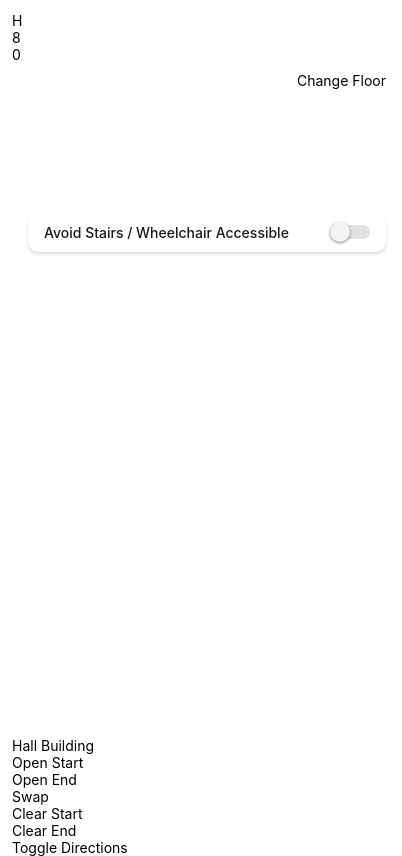
IndoorNavigation › shows the step buttons while the directions panel is open
Step 1. Click the element with test id "open-start" → (48, 762), box [12,754,83,771]
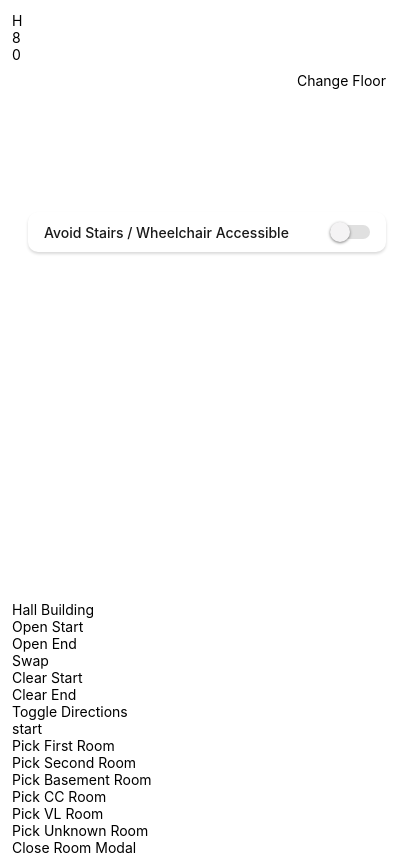
Step 2. Click the element with test id "pick-room-first" → (63, 746), box [12,737,115,754]
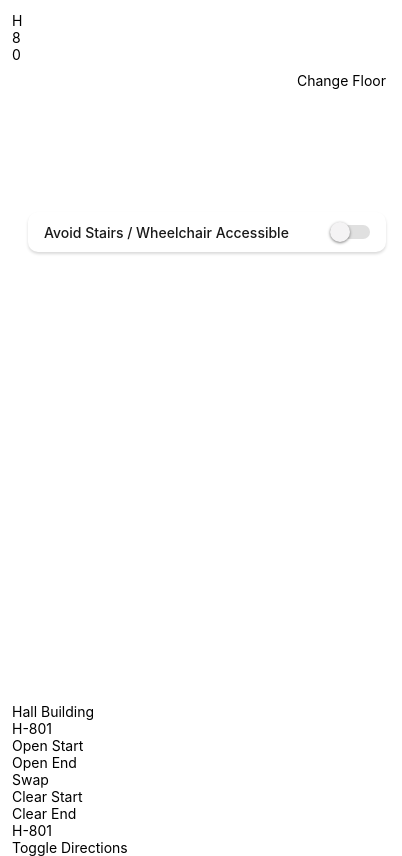
Step 3. Click the element with test id "open-end" → (44, 762), box [12,754,77,771]
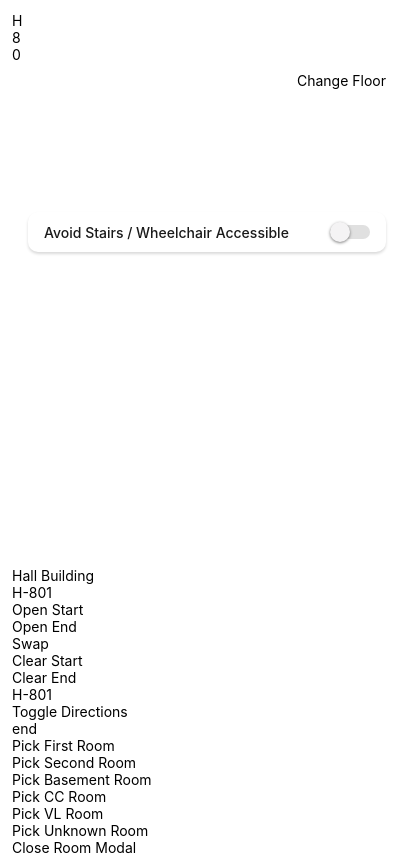
Step 4. Click the element with test id "pick-room-second" → (74, 762), box [12,754,136,771]
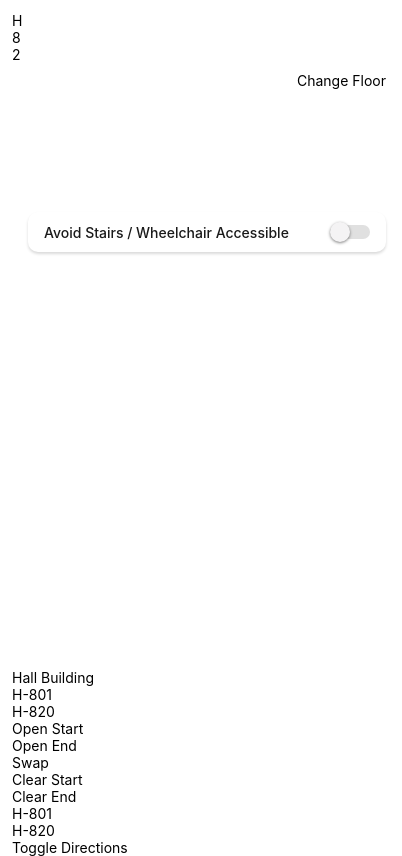
Step 5. Click the element with test id "toggle-directions" → (70, 848), box [12,839,128,855]
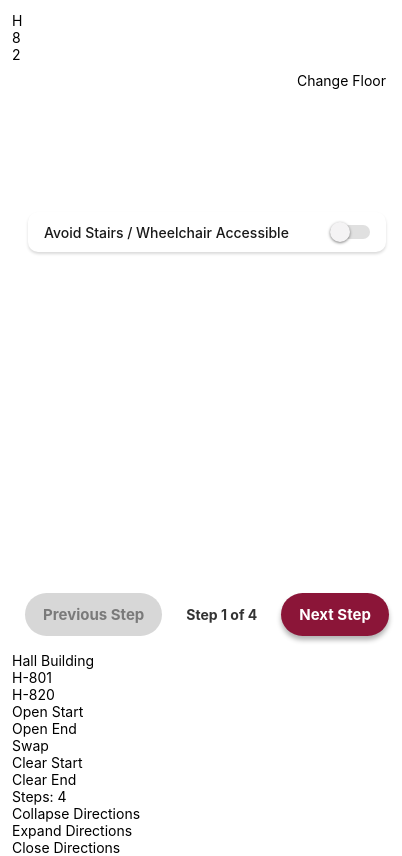
Expected: the element with test id "next-step-button" is shown, [281,593,389,636]
Expected: the element with test id "previous-step-button" is shown, [25,593,162,636]
Expected: the text "Steps: 4" is shown, [12,788,67,805]
